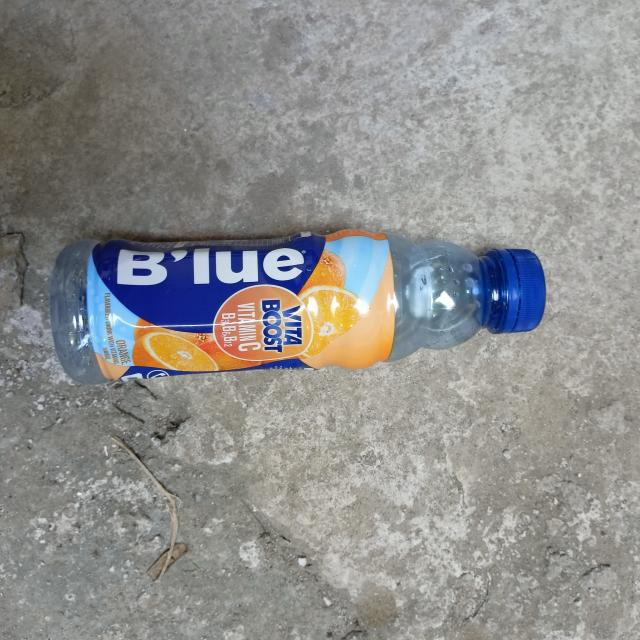Bottle: (50, 230, 545, 384)
